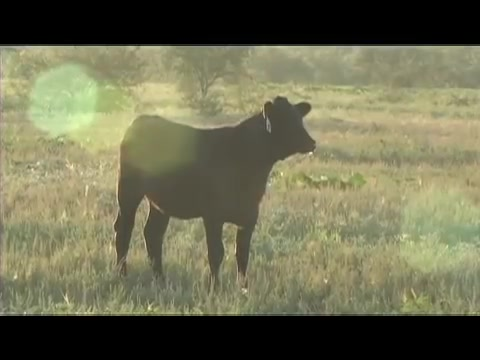cow: (114, 94, 317, 279)
